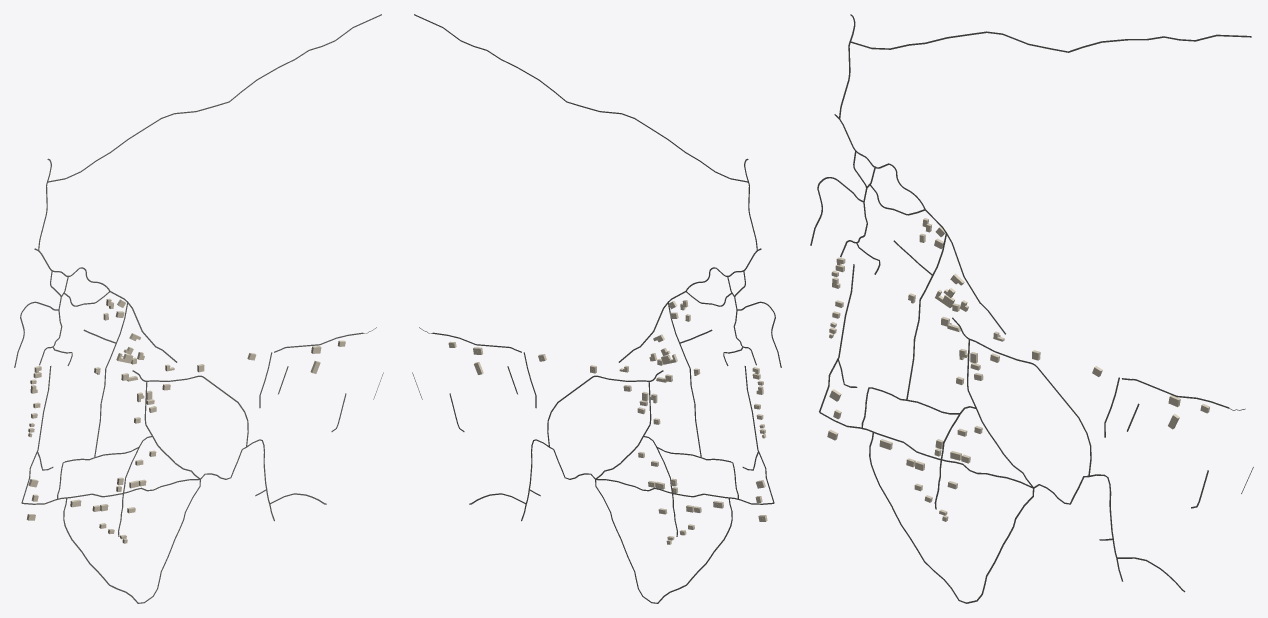
The model's file is historic-palestine-10_27_3523_3218.glb.
3 views of the same model, side by side, from view 1: azimuth 30°, elevation 25°; view 2: azimuth 150°, elevation 25°; view 3: azimuth 330°, elevation 25° (orthographic). The views are drawn at different scales.
Parts seen in each view (by area): view 1: Road .017, Road .025; view 2: Road .017, Road .025; view 3: Road .017, Road .025.
Part boxes in pixels (box(x1,y1,x2,y2)): Road .017: box(47, 14, 381, 182); Road .025: box(63, 479, 200, 603); Road .017: box(414, 14, 747, 182); Road .025: box(595, 479, 732, 603); Road .017: box(850, 31, 1251, 52); Road .025: box(869, 432, 1034, 603).
Bounding box in the file's own units: 976 × 1340 × 8.7.
